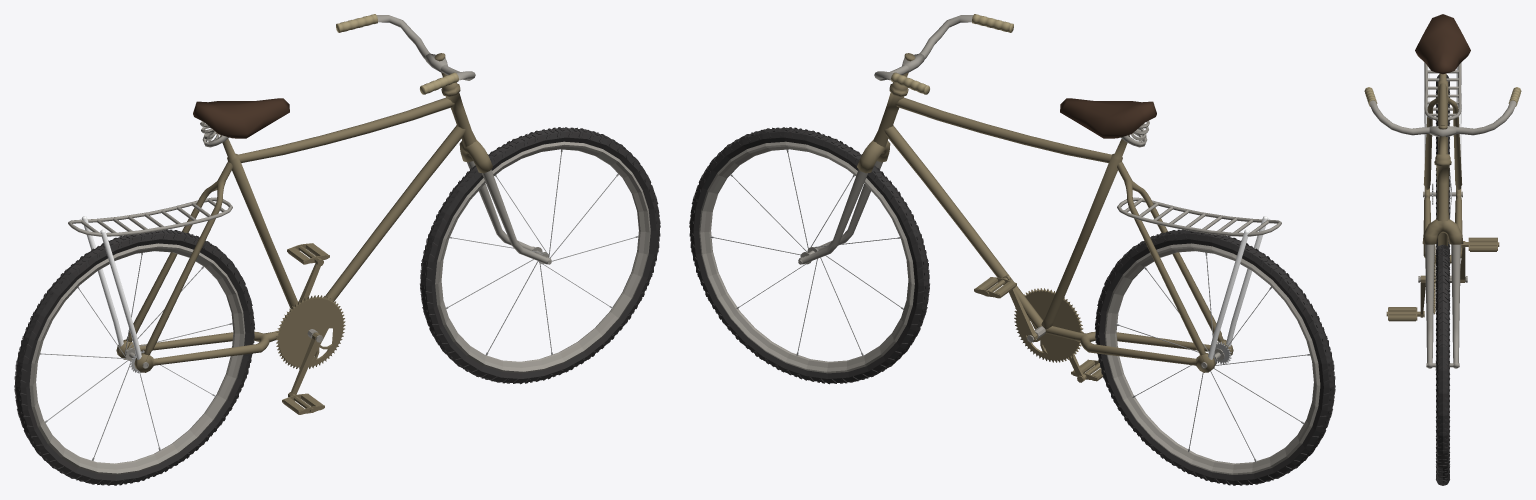
Rendered from bycicle.fbx.
3 views of the same model, side by side, from view 1: azimuth 30°, elevation 25°; view 2: azimuth 150°, elevation 25°; view 3: azimuth 270°, elevation 25° (orthographic). The views are drawn at different scales.
Parts seen in each view (by area): view 1: polySurface3, Bicycle-Front-Tire, Bicycle-Back-Tire, polySurface16, polySurface1, Bicycle-Seat, Bicycle-Back-Tire-Pattern, Bicycle-Tark, Bicycle-HandleBars, Bicycle-Right-Front-Spokes-Mesh2, Bicycle-Left-Back-Spokes-Mesh2, polySurface10 (+1 smaller); view 2: polySurface3, Bicycle-Front-Tire, Bicycle-Back-Tire, polySurface16, polySurface1, Bicycle-Seat, Bicycle-Back-Tire-Pattern, Bicycle-Tark, Bicycle-HandleBars, Bicycle-Right-Front-Spokes-Mesh2, Bicycle-Left-Back-Spokes-Mesh2, polySurface14 (+1 smaller); view 3: polySurface3, Bicycle-Front-Tire, Bicycle-Seat, Bicycle-HandleBars, polySurface14, polySurface10, Bicycle-Tark, Bicycle-Hub, Bicycle-Back-Tire, Bicycle-Back-Tire-Pattern, polySurface15, polySurface12.
Boxes of the visible parts, x1,y1,x2,y2 form: polySurface3: [116, 53, 492, 414]; Bicycle-Front-Tire: [420, 127, 660, 384]; Bicycle-Back-Tire: [15, 230, 254, 484]; polySurface16: [435, 141, 650, 373]; polySurface1: [29, 243, 245, 474]; Bicycle-Seat: [193, 98, 289, 147]; Bicycle-Back-Tire-Pattern: [14, 229, 254, 485]; Bicycle-Tark: [68, 197, 232, 236]; Bicycle-HandleBars: [336, 14, 475, 94]; Bicycle-Right-Front-Spokes-Mesh2: [446, 149, 638, 355]; Bicycle-Left-Back-Spokes-Mesh2: [40, 253, 232, 460]; polySurface10: [482, 169, 551, 264]; polySurface3: [857, 53, 1233, 382]; Bicycle-Front-Tire: [689, 127, 929, 384]; Bicycle-Back-Tire: [1095, 230, 1334, 484]; polySurface16: [699, 141, 914, 373]; polySurface1: [1104, 243, 1320, 474]; Bicycle-Seat: [1060, 98, 1156, 147]; Bicycle-Back-Tire-Pattern: [1095, 229, 1335, 485]; Bicycle-Tark: [1117, 197, 1281, 236]; Bicycle-HandleBars: [874, 14, 1013, 94]; Bicycle-Right-Front-Spokes-Mesh2: [710, 149, 903, 356]; Bicycle-Left-Back-Spokes-Mesh2: [1115, 252, 1310, 462]; polySurface14: [798, 169, 867, 264]; polySurface3: [1386, 73, 1499, 321]; Bicycle-Front-Tire: [1436, 244, 1449, 485]; Bicycle-Seat: [1415, 14, 1470, 74]; Bicycle-HandleBars: [1364, 87, 1521, 135]; polySurface14: [1451, 244, 1460, 368]; polySurface10: [1425, 244, 1434, 368]; Bicycle-Tark: [1424, 63, 1461, 120]; Bicycle-Hub: [1429, 126, 1456, 137]; Bicycle-Back-Tire: [1436, 81, 1449, 249]; Bicycle-Back-Tire-Pattern: [1435, 75, 1450, 307]; polySurface15: [1456, 62, 1461, 163]; polySurface12: [1424, 62, 1429, 163].
Bounding box in the file's own units: 228 × 125 × 54.94.
